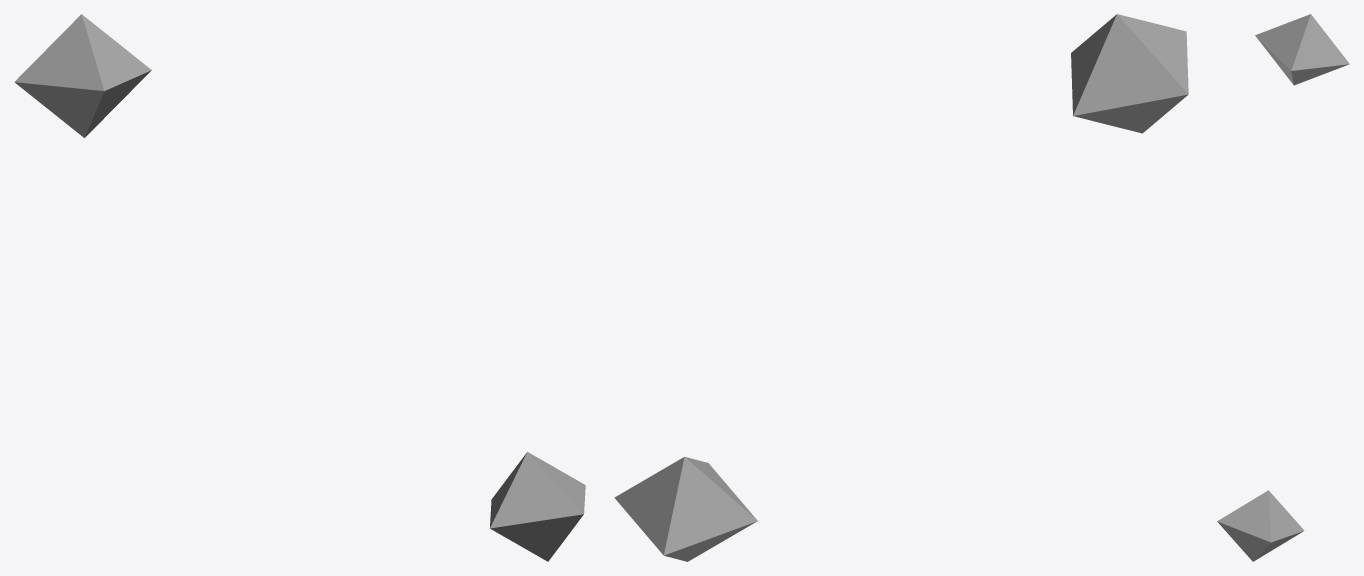
Rendered from SM_Chr_Attach_Piercings_Female_02.fbx.
3 views of the same model, side by side, from view 1: azimuth 30°, elevation 25°; view 2: azimuth 150°, elevation 25°; view 3: azimuth 270°, elevation 25° (orthographic). The views are drawn at different scales.
Parts seen in each view (by area): view 1: SM_Chr_Attach_Piercings_Female_02; view 2: SM_Chr_Attach_Piercings_Female_02; view 3: SM_Chr_Attach_Piercings_Female_02.
Part boxes in pixels (x1,y1,x2,y2): SM_Chr_Attach_Piercings_Female_02: (14, 14, 585, 561); SM_Chr_Attach_Piercings_Female_02: (614, 14, 1188, 561); SM_Chr_Attach_Piercings_Female_02: (1217, 14, 1349, 561).
Size of the model in its own units: 12.14 by 13.32 by 3.91.
